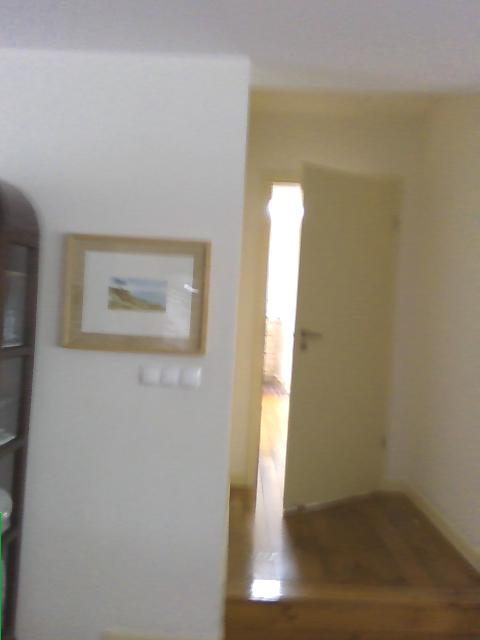semi_door: (252, 158, 410, 514)
